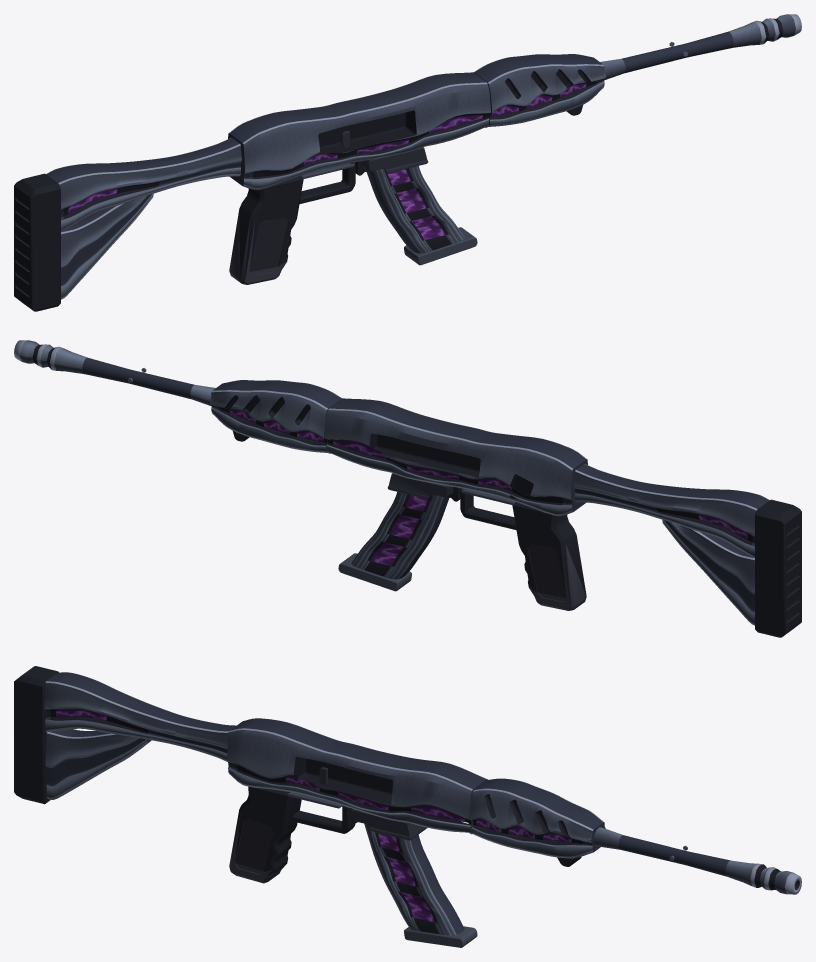
Rendered from Vandal_Moltframe_Shell_v03.fbx.
3 renders of one model, top to bottom at view 1: azimuth 30°, elevation 25°; view 2: azimuth 150°, elevation 25°; view 3: azimuth 330°, elevation 25°, orthographic.
Parts seen in each view (by area): view 1: Moltframe_Receiver_00, Moltframe_StockHardware_02, Moltframe_GripHardware_02, Moltframe_StockSpine_00, Moltframe_Receiver_02, Moltframe_Receiver_03, Moltframe_Forend_00, Moltframe_Magazine_00, Moltframe_StockBrace_00, Moltframe_StockSpine_02, Moltframe_Barrel_02, Moltframe_Forend_02 (+15 smaller); view 2: Moltframe_Receiver_00, Moltframe_StockHardware_02, Moltframe_StockSpine_00, Moltframe_GripHardware_02, Moltframe_Receiver_03, Moltframe_Receiver_02, Moltframe_Forend_00, Moltframe_Magazine_00, Moltframe_StockBrace_00, Moltframe_StockSpine_02, Moltframe_Barrel_02, Moltframe_Forend_02 (+15 smaller); view 3: Moltframe_Receiver_00, Moltframe_StockHardware_02, Moltframe_StockSpine_00, Moltframe_GripHardware_02, Moltframe_Forend_00, Moltframe_Receiver_03, Moltframe_Receiver_02, Moltframe_StockBrace_00, Moltframe_StockSpine_02, Moltframe_Magazine_00, Moltframe_Forend_02, Moltframe_Barrel_02 (+17 smaller).
Part boxes in pixels (<box>): Moltframe_Receiver_00: <box>243,84,490,188</box>; Moltframe_StockHardware_02: <box>14,173,60,311</box>; Moltframe_GripHardware_02: <box>239,162,355,279</box>; Moltframe_StockSpine_00: <box>59,145,241,230</box>; Moltframe_Receiver_02: <box>228,72,485,185</box>; Moltframe_Receiver_03: <box>253,110,488,178</box>; Moltframe_Forend_00: <box>489,65,606,124</box>; Moltframe_Magazine_00: <box>370,158,464,253</box>; Moltframe_StockBrace_00: <box>61,193,153,297</box>; Moltframe_StockSpine_02: <box>46,138,240,220</box>; Moltframe_Barrel_02: <box>621,31,733,73</box>; Moltframe_Forend_02: <box>474,54,604,126</box>; Moltframe_Receiver_00: <box>325,410,572,514</box>; Moltframe_StockHardware_02: <box>755,499,801,637</box>; Moltframe_StockSpine_00: <box>574,471,756,556</box>; Moltframe_GripHardware_02: <box>460,488,586,605</box>; Moltframe_Receiver_03: <box>327,433,562,504</box>; Moltframe_Receiver_02: <box>330,398,587,511</box>; Moltframe_Forend_00: <box>209,391,326,450</box>; Moltframe_Magazine_00: <box>351,484,445,579</box>; Moltframe_StockBrace_00: <box>662,519,754,623</box>; Moltframe_StockSpine_02: <box>575,464,769,546</box>; Moltframe_Barrel_02: <box>82,357,194,399</box>; Moltframe_Forend_02: <box>211,380,341,452</box>; Moltframe_Receiver_00: <box>227,730,471,832</box>; Moltframe_StockHardware_02: <box>14,666,58,804</box>; Moltframe_StockSpine_00: <box>44,683,228,759</box>; Moltframe_GripHardware_02: <box>230,786,355,875</box>; Moltframe_Forend_00: <box>470,790,592,856</box>; Moltframe_Receiver_03: <box>236,756,471,825</box>; Moltframe_Receiver_02: <box>228,718,487,833</box>; Moltframe_StockBrace_00: <box>45,733,146,797</box>; Moltframe_StockSpine_02: <box>45,672,235,753</box>; Moltframe_Magazine_00: <box>364,822,456,935</box>; Moltframe_Forend_02: <box>474,778,605,852</box>; Moltframe_Barrel_02: <box>618,835,729,876</box>.
Bounding box in the file's own units: 3.9 × 0.8411 × 0.236.
Materials: 12 (2 with a texture image).
